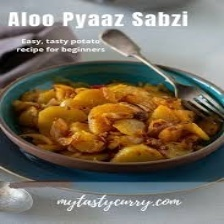sabzi: (12, 82, 220, 164)
